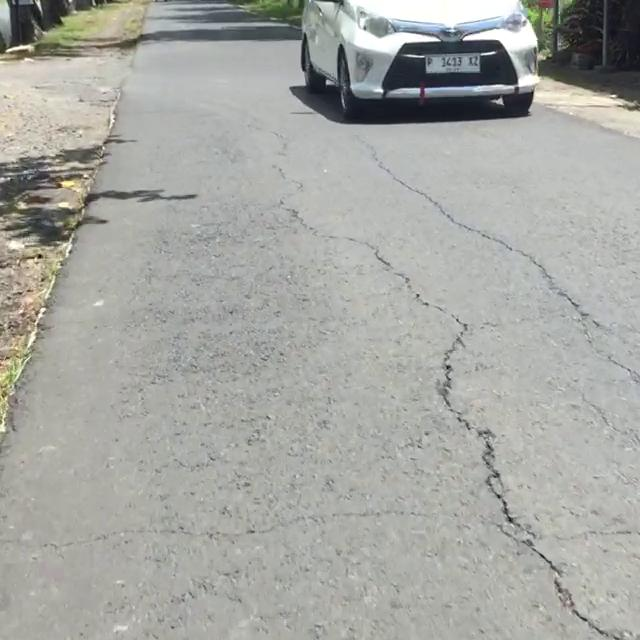retak_memanjang: (349, 245, 640, 640), (373, 129, 590, 323), (240, 116, 330, 243)
